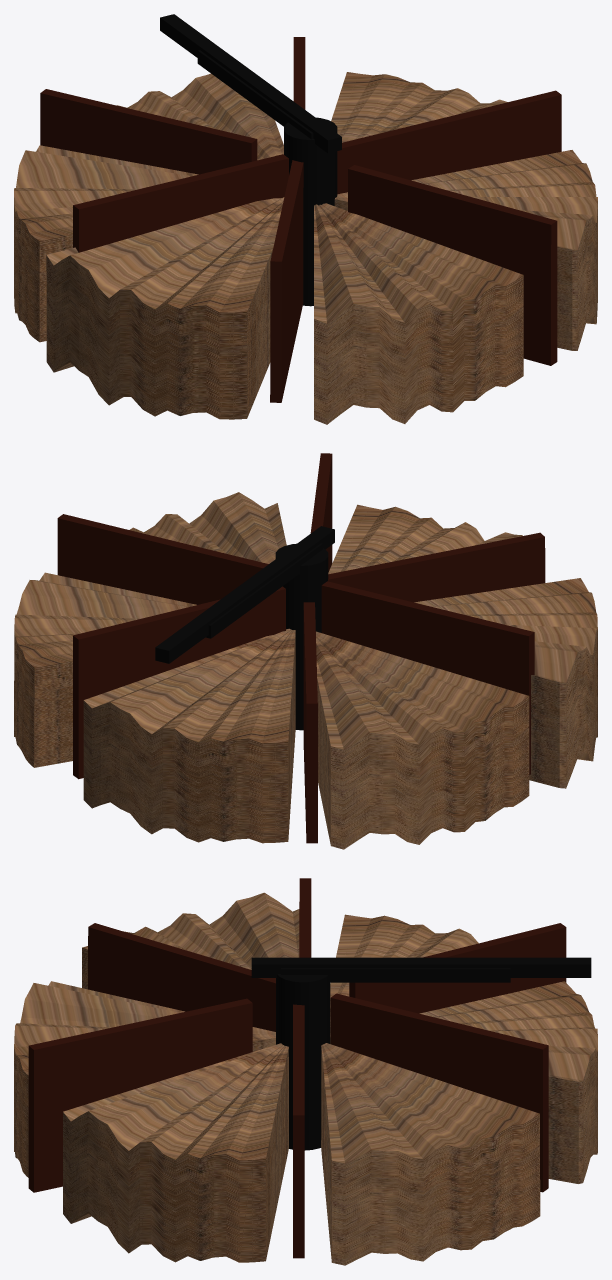
The model's file is clockOptimized.FBX.
The picture shows the model from 3 angles, top to bottom: view 1: azimuth 30°, elevation 25°; view 2: azimuth 150°, elevation 25°; view 3: azimuth 270°, elevation 25°; orthographic projection. The views are drawn at different scales.
Parts seen in each view (by area): view 1: Cylinder001, Box006, Box001, Box003, Box005, Box004, core, MINUTE, HOUR, Box002; view 2: Cylinder001, Box005, Box001, Box002, Box004, MINUTE, Box003, core, HOUR, Box006; view 3: Cylinder001, Box006, Box002, Box004, Box003, core, MINUTE, HOUR, Box001, Box005.
Part boxes in pixels (x1=…): Cylinder001: x1=14, y1=72, x2=597, y2=424; Box006: x1=348, y1=165, x2=557, y2=365; Box001: x1=337, y1=90, x2=561, y2=194; Box003: x1=40, y1=89, x2=257, y2=174; Box005: x1=73, y1=154, x2=288, y2=252; Box004: x1=270, y1=160, x2=303, y2=402; core: x1=284, y1=117, x2=337, y2=306; MINUTE: x1=160, y1=14, x2=341, y2=153; HOUR: x1=197, y1=50, x2=313, y2=139; Box002: x1=293, y1=37, x2=305, y2=109; Cylinder001: x1=14, y1=492, x2=597, y2=849; Box005: x1=321, y1=581, x2=534, y2=775; Box001: x1=57, y1=514, x2=268, y2=604; Box002: x1=73, y1=586, x2=285, y2=779; Box004: x1=328, y1=532, x2=545, y2=602; MINUTE: x1=155, y1=526, x2=334, y2=663; Box003: x1=303, y1=602, x2=317, y2=843; core: x1=275, y1=543, x2=328, y2=730; HOUR: x1=205, y1=543, x2=322, y2=638; Box006: x1=310, y1=453, x2=332, y2=572; Cylinder001: x1=14, y1=892, x2=597, y2=1265; Box006: x1=28, y1=998, x2=252, y2=1192; Box002: x1=330, y1=993, x2=548, y2=1192; Box004: x1=88, y1=923, x2=275, y2=1031; Box003: x1=349, y1=923, x2=566, y2=1013; core: x1=276, y1=974, x2=330, y2=1150; MINUTE: x1=251, y1=957, x2=591, y2=977; HOUR: x1=281, y1=968, x2=510, y2=982; Box001: x1=293, y1=1004, x2=304, y2=1258; Box005: x1=299, y1=878, x2=311, y2=957.
Bounding box in the file's own units: 14736 × 5299 × 14476.
